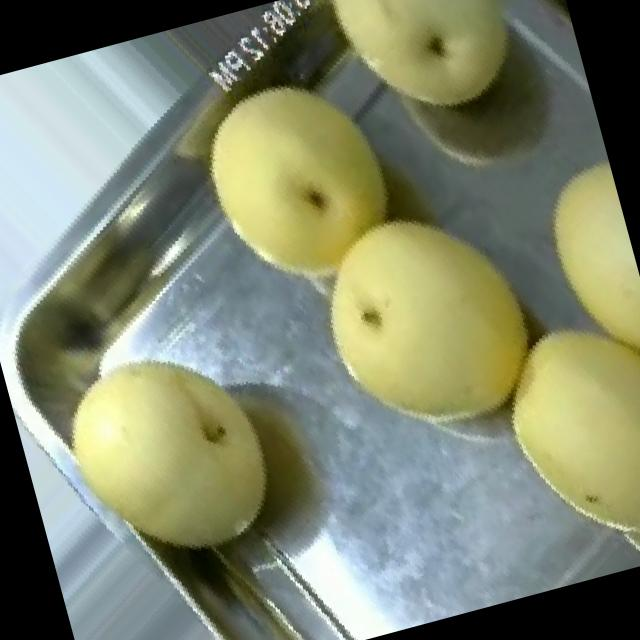Fruit: (273, 158, 587, 498), (18, 300, 328, 614), (160, 28, 450, 332), (451, 280, 640, 597), (295, 0, 571, 168), (503, 127, 640, 414)
